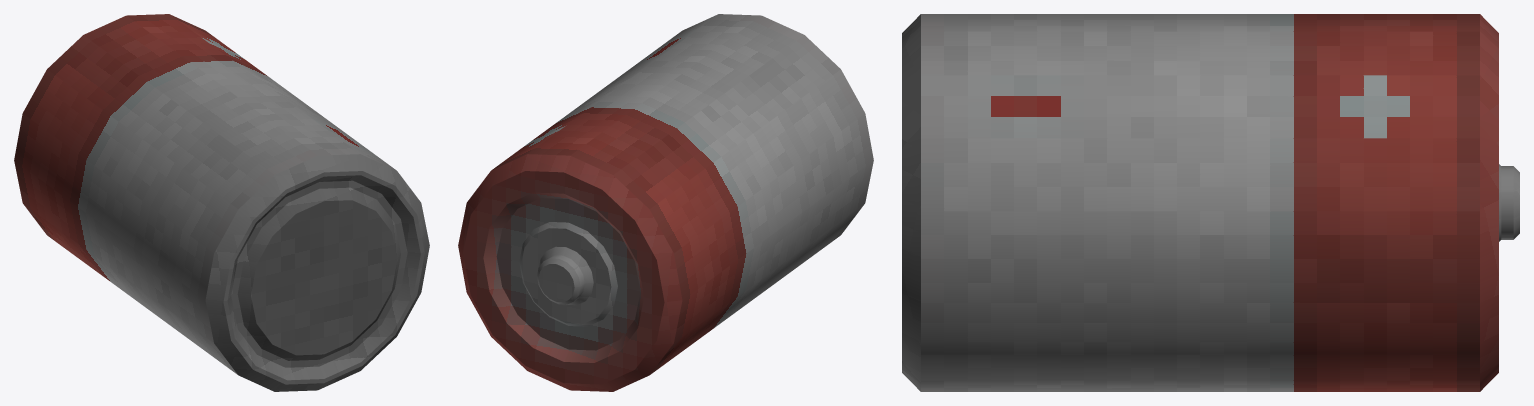
The model's file is battery_1.glb.
3 renders of one model, left to right at view 1: azimuth 30°, elevation 25°; view 2: azimuth 150°, elevation 25°; view 3: azimuth 270°, elevation 25°, orthographic. The views are drawn at different scales.
Parts seen in each view (by area): view 1: battery_1; view 2: battery_1; view 3: battery_1.
Boxes of the visible parts, box(x1,y1,x2,y2) form: battery_1: box(14, 14, 429, 391); battery_1: box(458, 14, 873, 391); battery_1: box(902, 14, 1519, 391).
Size of the model in its own units: 0.054 by 0.054 by 0.0882.
1 material, 1 textured.
